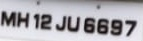character: (1, 10, 16, 26), (66, 14, 79, 32), (124, 19, 137, 36), (16, 11, 29, 27), (39, 12, 51, 29), (83, 16, 95, 33), (96, 17, 108, 34), (110, 18, 122, 35), (55, 14, 66, 31), (33, 12, 39, 29)
